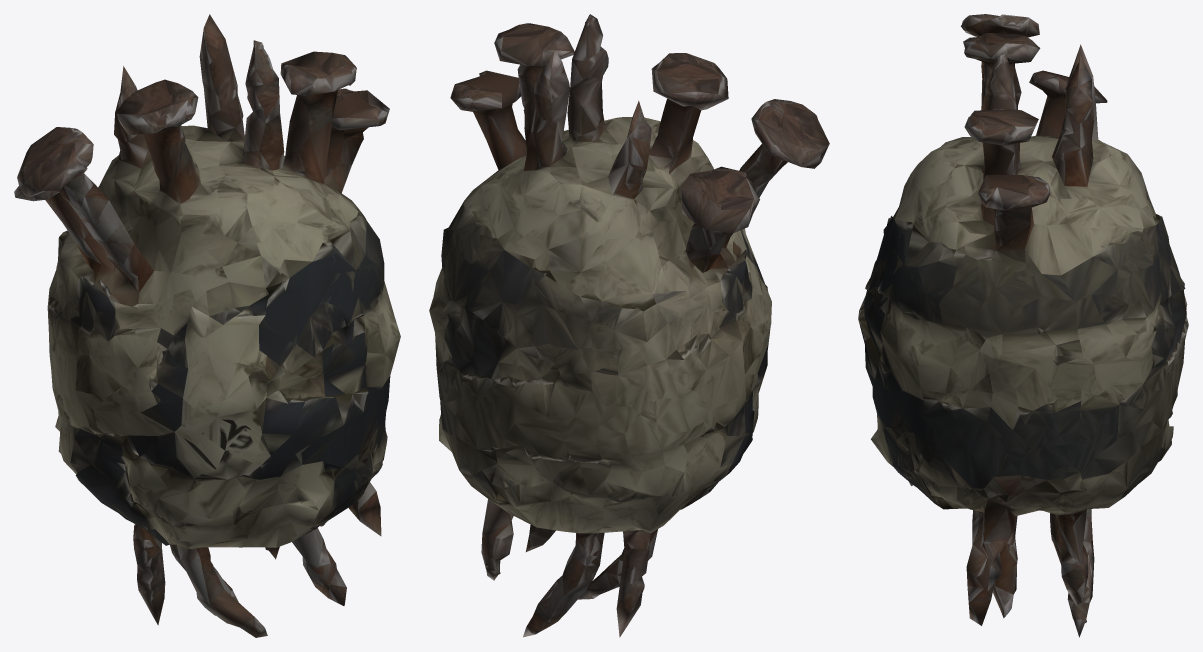
The model's file is nailbomb.obj.
3 views of the same model, side by side, from view 1: azimuth 30°, elevation 25°; view 2: azimuth 150°, elevation 25°; view 3: azimuth 270°, elevation 25° (orthographic). The views are drawn at different scales.
Size of the model in its own units: 0.0844 by 0.1333 by 0.07.
Materials: 1 (1 with a texture image).
